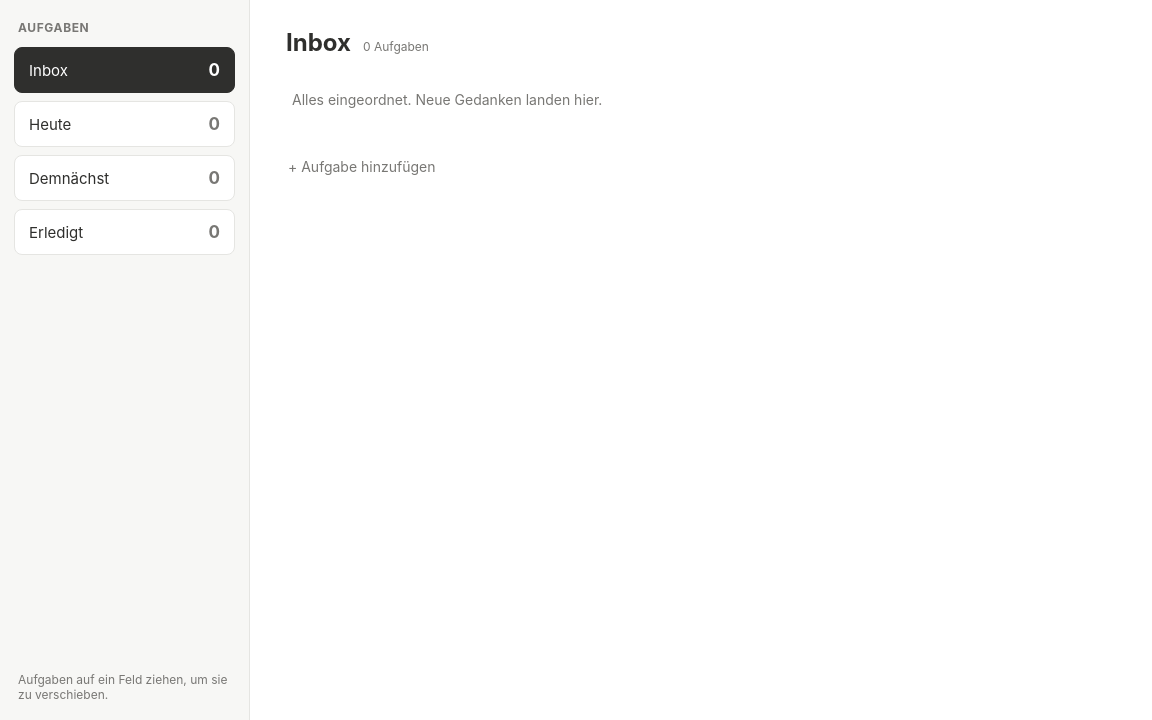
Test case: AufgabenView (Kategorien-Spalte) › erfasst Aufgaben direkt in der gewaehlten Kategorie
Step 1. Click the button "Heute 0" → coordinates (124, 124), box [14,101,235,147]
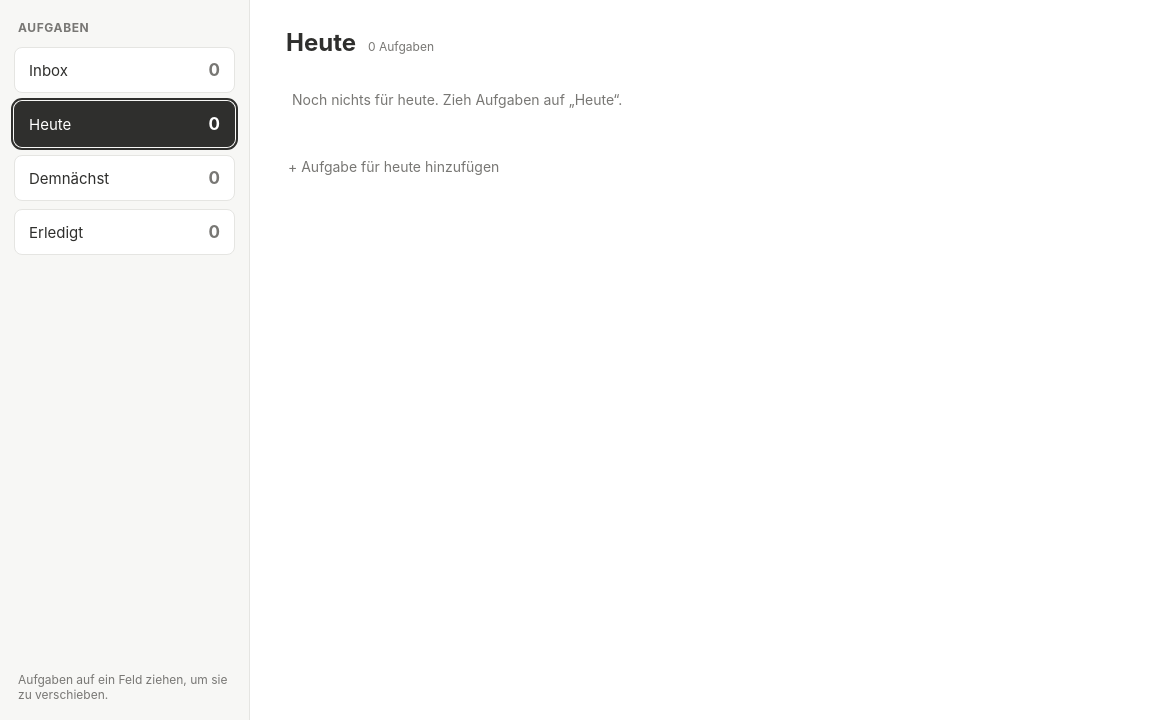
Step 2. Type "Dringend" into the field named "Aufgabe hinzufügen" → coordinates (701, 166), box [286,150,1116,183]
Then press Enter
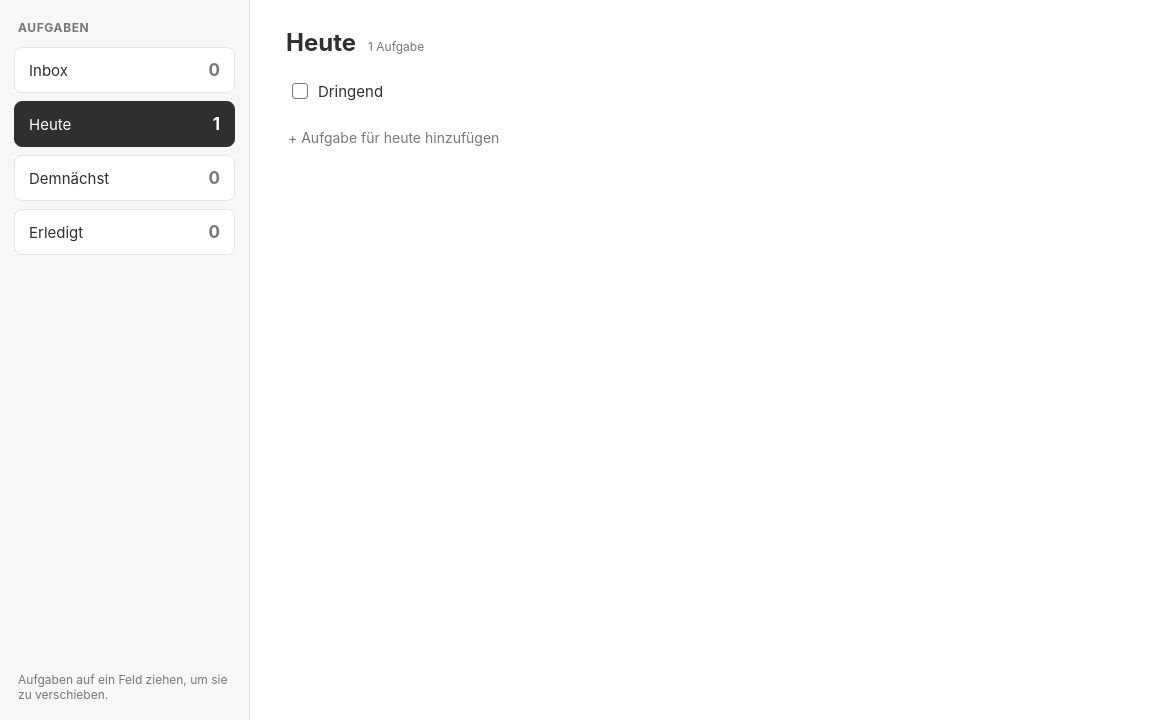
Expected: the text "Dringend" is shown, [318,82,383,100]
